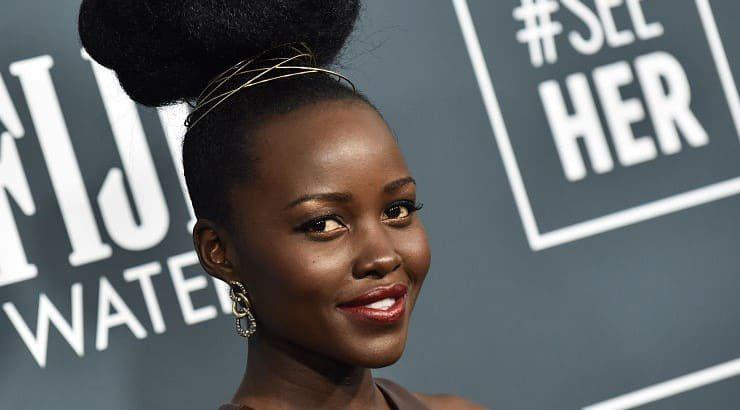Sober: (259, 114, 426, 345)
